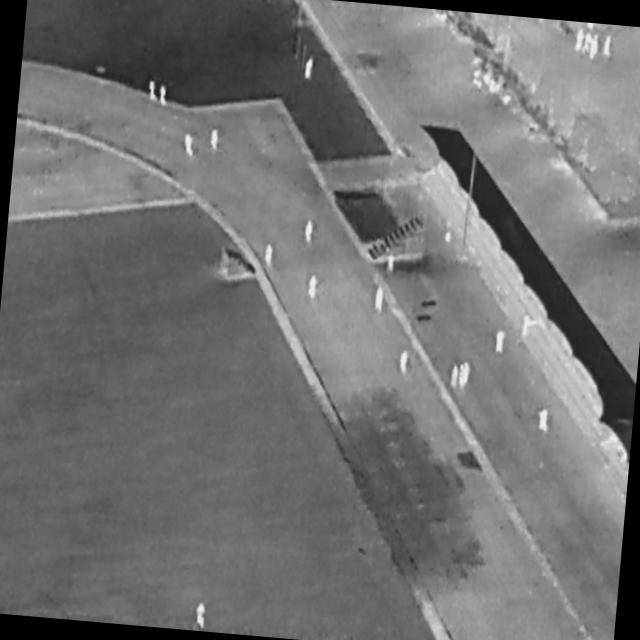person: (194, 603, 208, 630), (538, 408, 551, 434), (307, 274, 319, 302), (183, 134, 196, 159), (589, 35, 601, 62), (495, 329, 507, 355), (374, 286, 385, 314), (400, 351, 411, 376), (458, 363, 468, 390), (450, 364, 460, 390), (148, 81, 160, 102), (305, 219, 315, 244), (603, 35, 613, 60), (210, 128, 221, 150), (463, 361, 472, 387), (264, 244, 274, 267), (582, 33, 592, 56), (576, 28, 585, 53), (159, 85, 169, 107), (305, 57, 314, 80), (444, 222, 453, 244), (388, 253, 397, 274), (638, 135, 640, 167)
